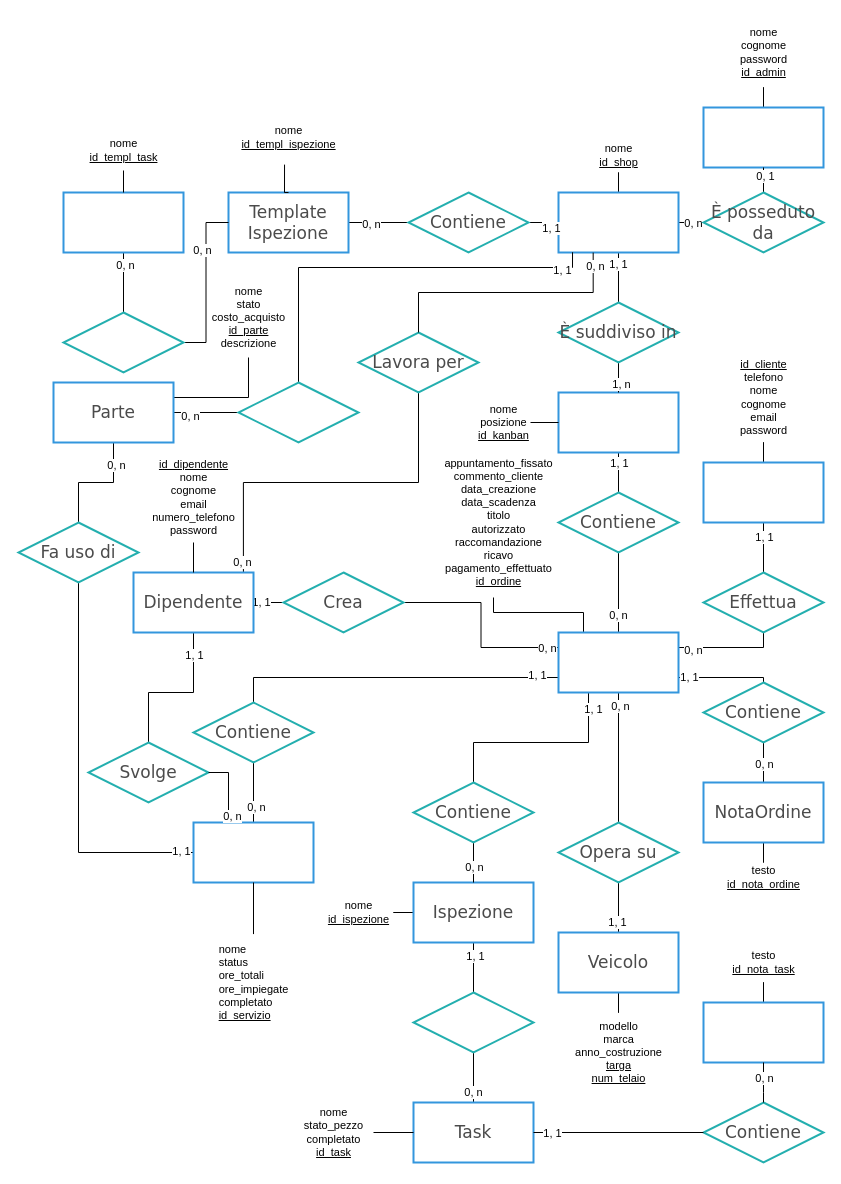
Some shapes in this 841 by 1184 pixel diagram are drawn without their labels. The shapes that lost their labels are listed below. From the top down, each one's centre as x and y in pixels, then its label:
At [763,137]: "Admin".
At [123,222]: "TemplateTask".
At [618,222]: "Shop".
At [123,342]: "Composto da".
At [298,412]: "Contiene in magazzino".
At [618,422]: "Kanban".
At [763,492]: "Cliente".
At [618,662]: "Ordine".
At [253,852]: "Servizio".
At [473,1022]: "Composta da".
At [763,1032]: "NotaTask".
